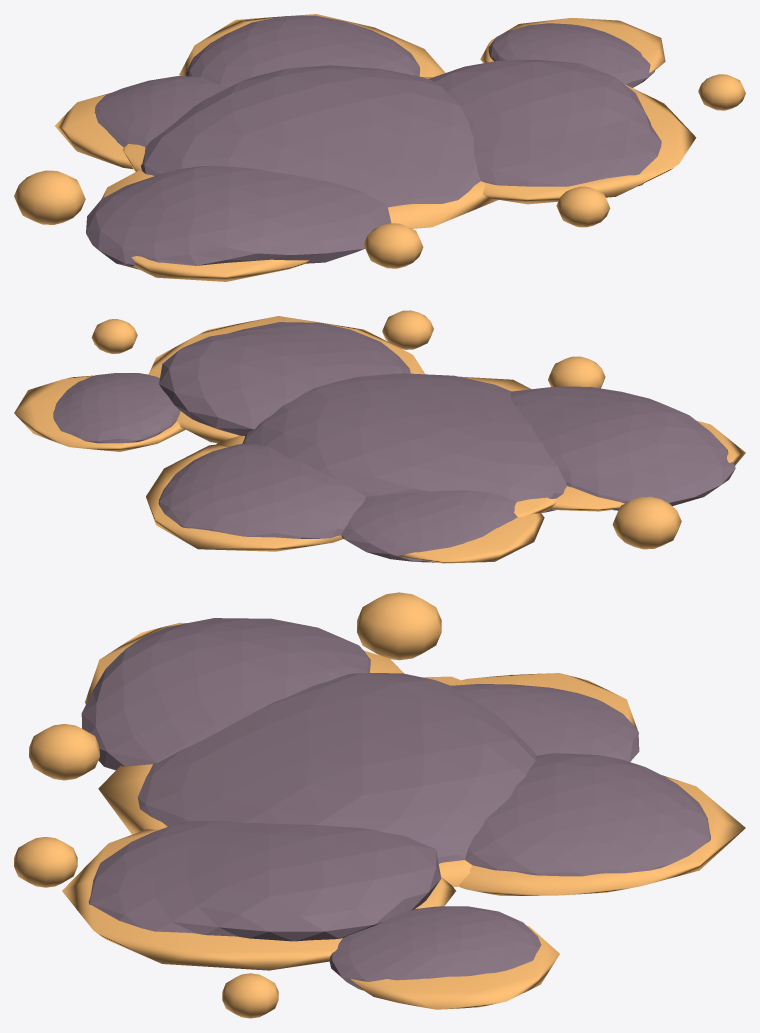
File: LavaCrust.glb
3 renders of one model, top to bottom at view 1: azimuth 30°, elevation 25°; view 2: azimuth 150°, elevation 25°; view 3: azimuth 270°, elevation 25°, orthographic. The views are drawn at different scales.
Parts seen in each view (by area): view 1: Crust, Glow; view 2: Crust, Glow; view 3: Crust, Glow.
Boxes of the visible parts, x1,y1,x2,y2 form: Crust: (86,15,661,269); Glow: (14,14,745,281); Crust: (53,322,735,562); Glow: (14,310,745,563); Crust: (81,618,710,990); Glow: (14,592,745,1018).
Bounding box in the file's own units: 25.5 × 2.19 × 19.67.
